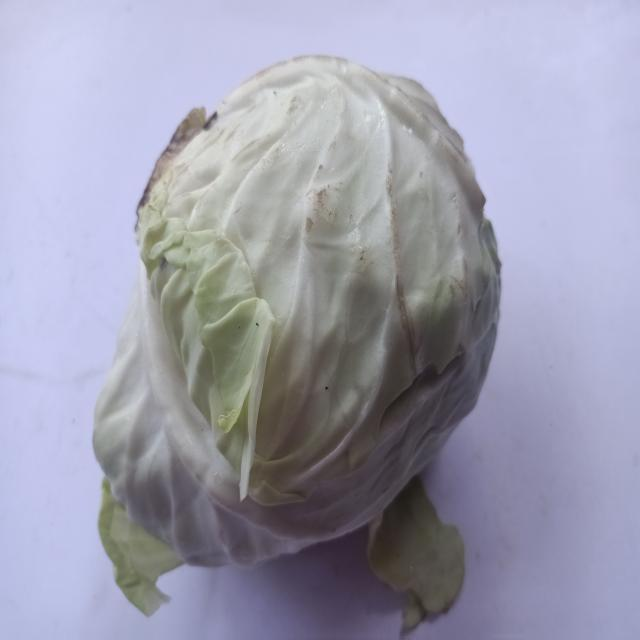Cabbage: (77, 41, 535, 640)
